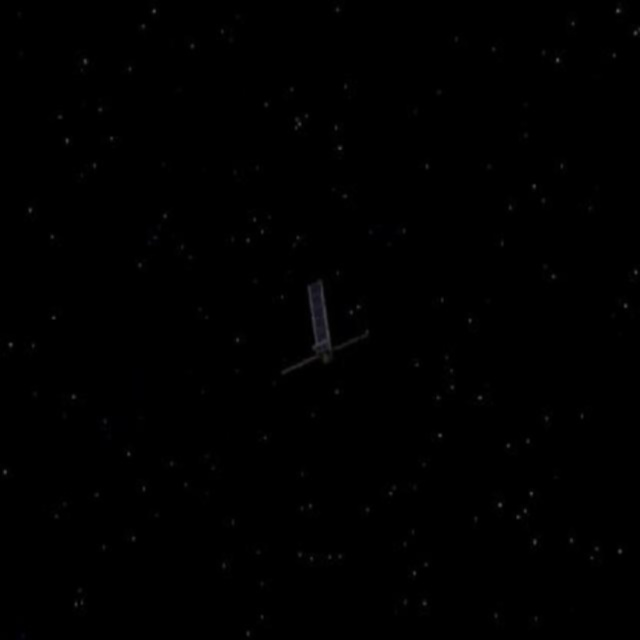medium_debris: (273, 280, 377, 384)
